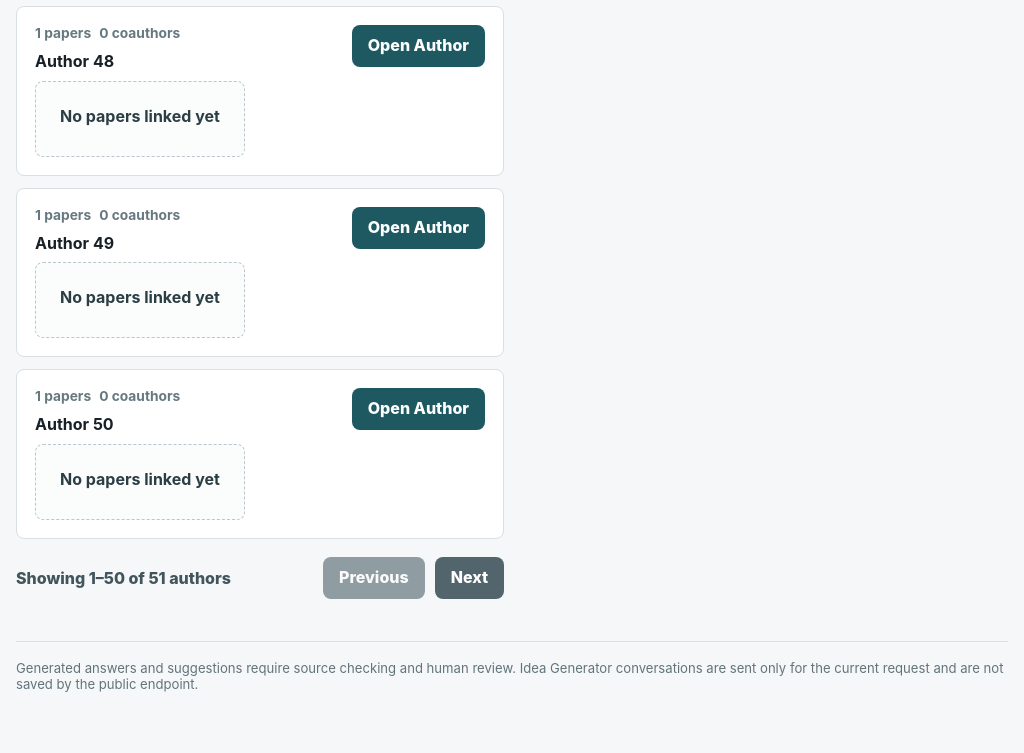
route-based application shell › pages through the complete public author result set
The width and height of the screenshot is (1024, 753).
(page scrolled)
Expected: the text "Showing 1–50 of 51 authors" is shown, [16,568,231,588]
Click the button "Next" at (469, 578), box [435,557,504,599]
(page scrolled)
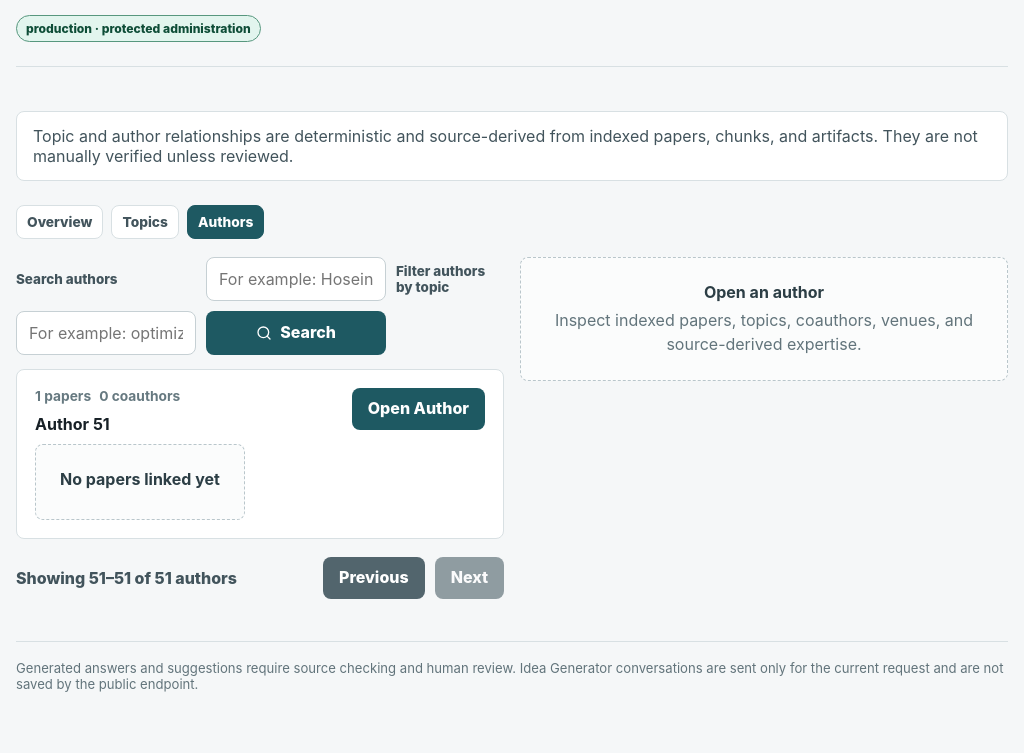
Expected: the text "Showing 51–51 of 51 authors" is shown, [16,568,237,588]
Expected: the heading "Author 51" is shown, [35,414,110,434]
